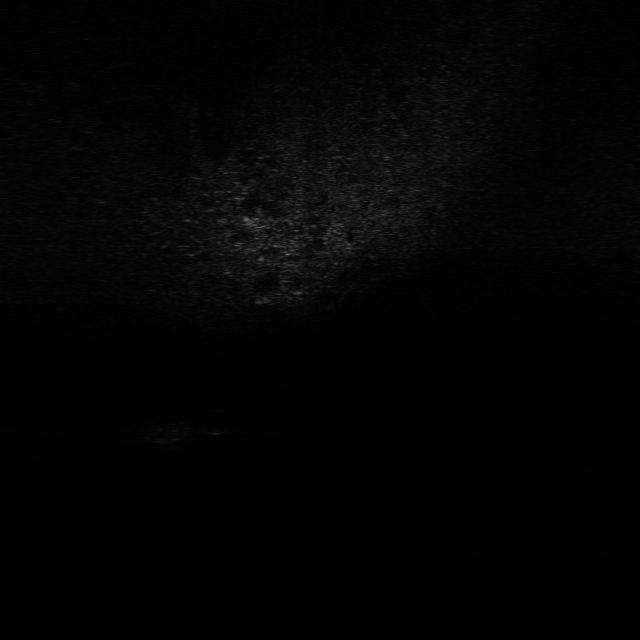ball: (199, 406, 237, 438)
circle cage: (126, 416, 200, 450)
